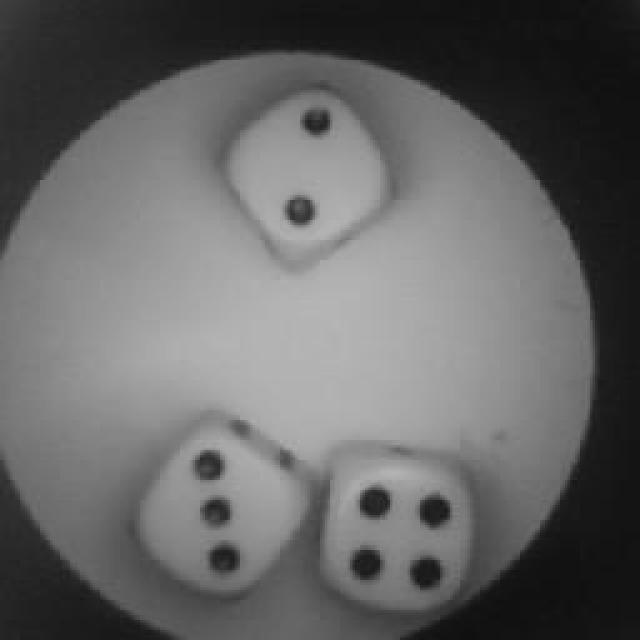dice_2: (220, 80, 388, 262)
dice_3: (135, 428, 303, 600)
dice_4: (310, 438, 480, 610)
